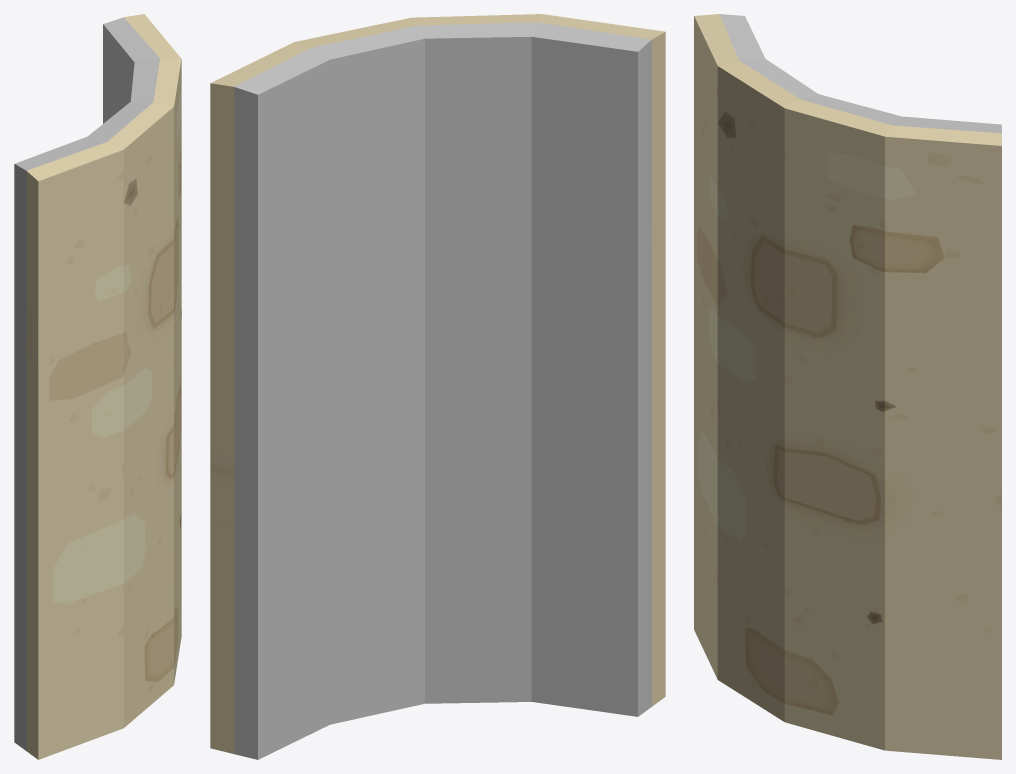
The model's file is SM_Bld_Wall_Curved_S_01.fbx.
The picture shows the model from 3 angles, left to right: view 1: azimuth 30°, elevation 25°; view 2: azimuth 150°, elevation 25°; view 3: azimuth 270°, elevation 25°; orthographic projection. The views are drawn at different scales.
Visible parts, largest first — view 1: SM_Bld_Wall_Curved_S_01; view 2: SM_Bld_Wall_Curved_S_01; view 3: SM_Bld_Wall_Curved_S_01.
Part boxes in pixels (x1=…): SM_Bld_Wall_Curved_S_01: x1=14, y1=14, x2=181, y2=759; SM_Bld_Wall_Curved_S_01: x1=210, y1=14, x2=665, y2=759; SM_Bld_Wall_Curved_S_01: x1=694, y1=14, x2=1001, y2=759.
Bounding box in the file's own units: 136 × 301 × 136.
